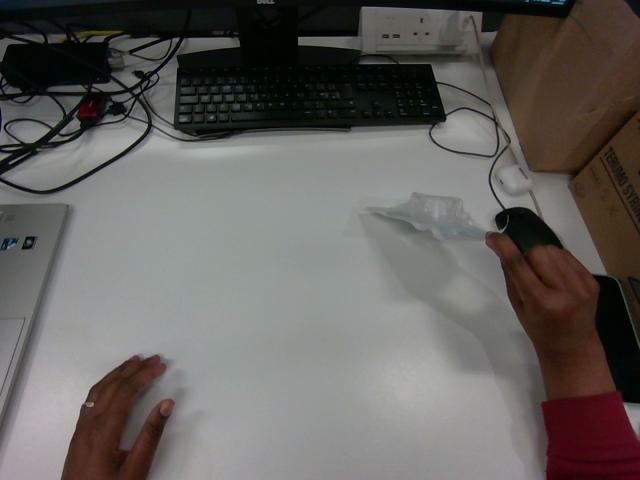gallipot: (368, 193, 485, 239)
